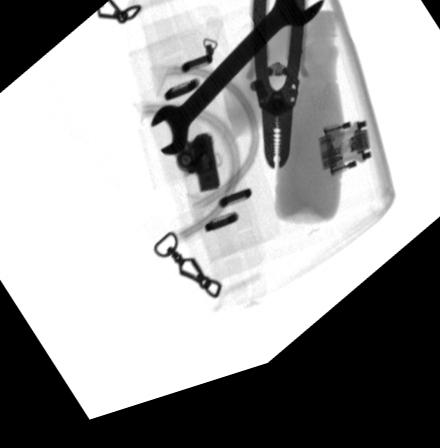Pliers: (250, 0, 305, 188)
Wrench: (149, 0, 325, 165)
